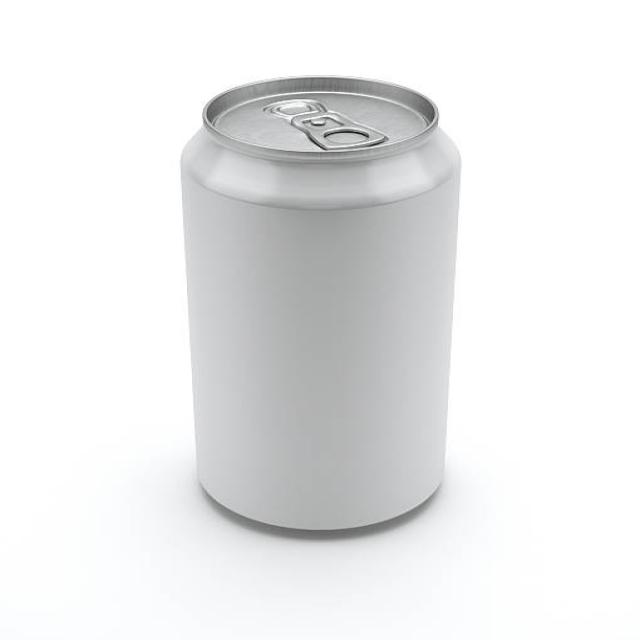can: (176, 74, 462, 552)
